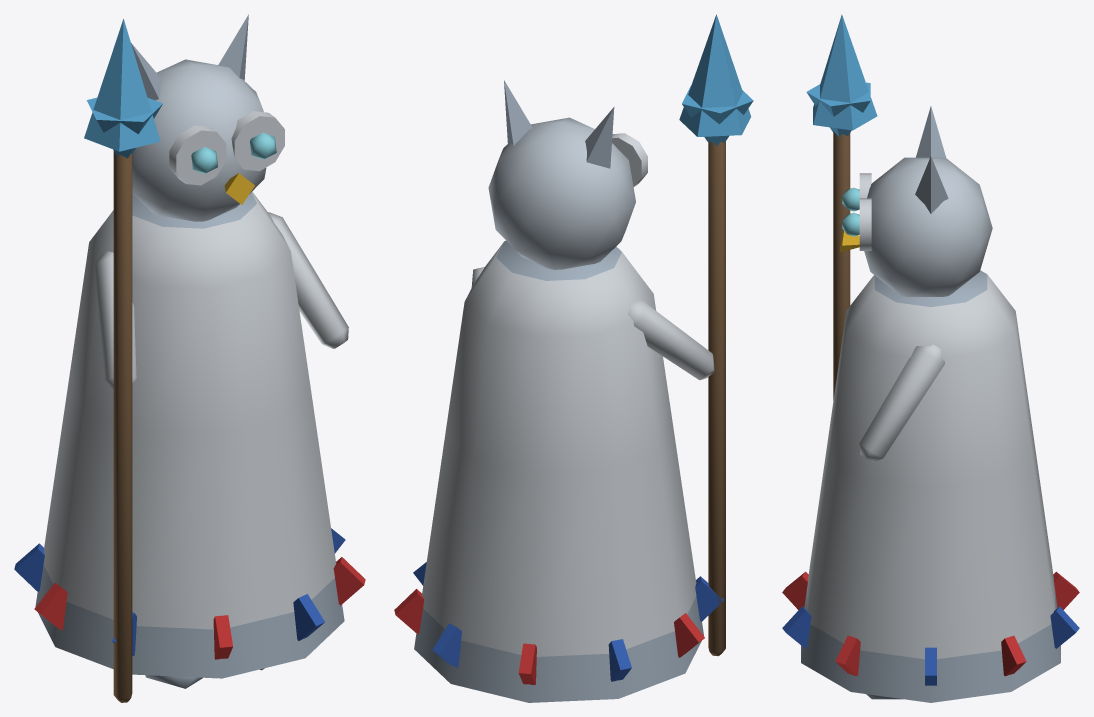
The model's file is e_eis_frostschamanin.glb.
3 renders of one model, left to right at view 1: azimuth 30°, elevation 25°; view 2: azimuth 150°, elevation 25°; view 3: azimuth 270°, elevation 25°, orthographic. The views are drawn at different scales.
Visible parts, largest first — view 1: body; view 2: body; view 3: body.
Part boxes in pixels (box(x1,y1,x2,y2)): body: box(14, 14, 365, 702); body: box(394, 14, 753, 702); body: box(782, 14, 1079, 702).
Size of the model in its own units: 1.04 by 2.3 by 1.
